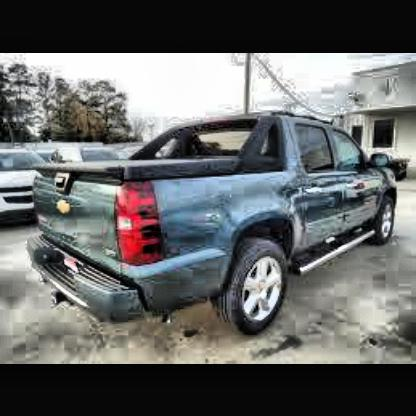Chevrolet Avalanche Crew Cab 2012: (30, 114, 401, 338)
